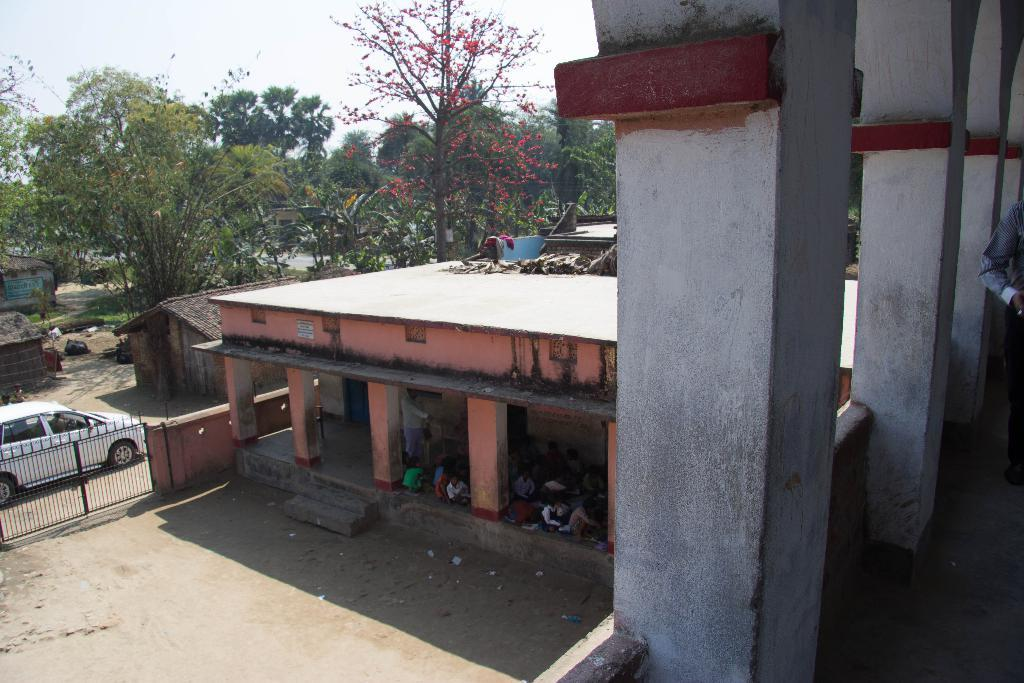Car: (0, 401, 147, 523)
